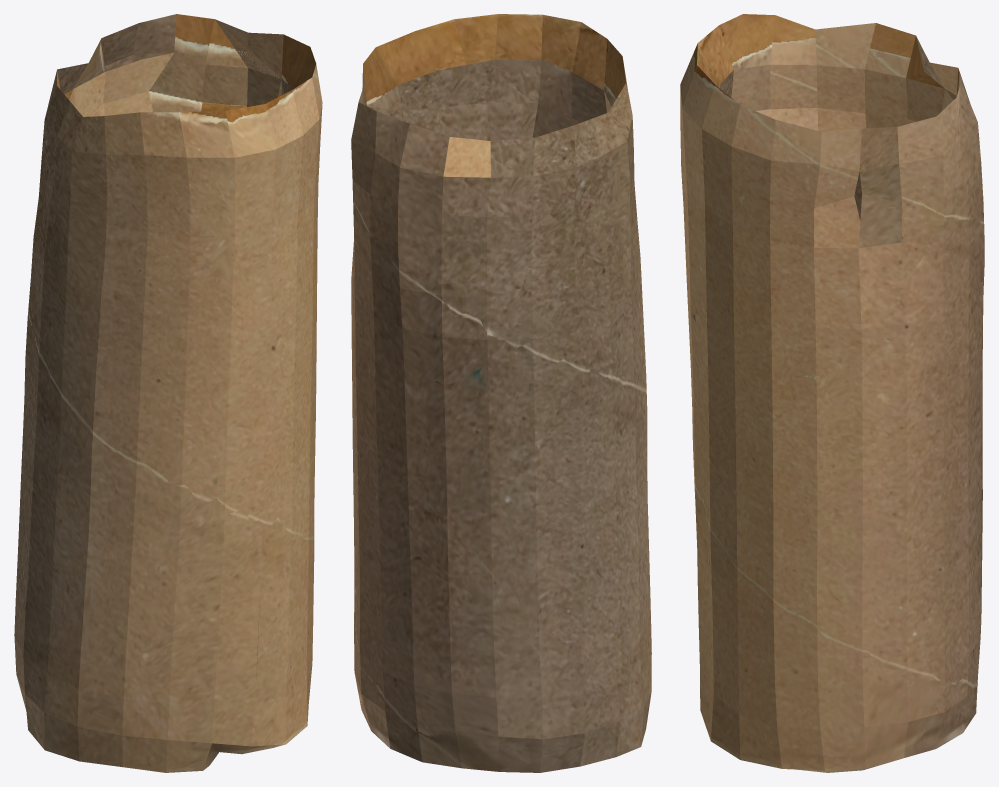
Rendered from toiletrulle.fbx.
3 renders of one model, left to right at view 1: azimuth 30°, elevation 25°; view 2: azimuth 150°, elevation 25°; view 3: azimuth 270°, elevation 25°, orthographic. The views are drawn at different scales.
Parts seen in each view (by area): view 1: toiletrulle-low; view 2: toiletrulle-low; view 3: toiletrulle-low.
Part boxes in pixels (bbox=[...]): toiletrulle-low: bbox=[14, 14, 322, 772]; toiletrulle-low: bbox=[351, 14, 651, 772]; toiletrulle-low: bbox=[680, 14, 984, 772].
Bounding box in the file's own units: 4.91 × 11.63 × 4.75.
1 material, 1 textured.
